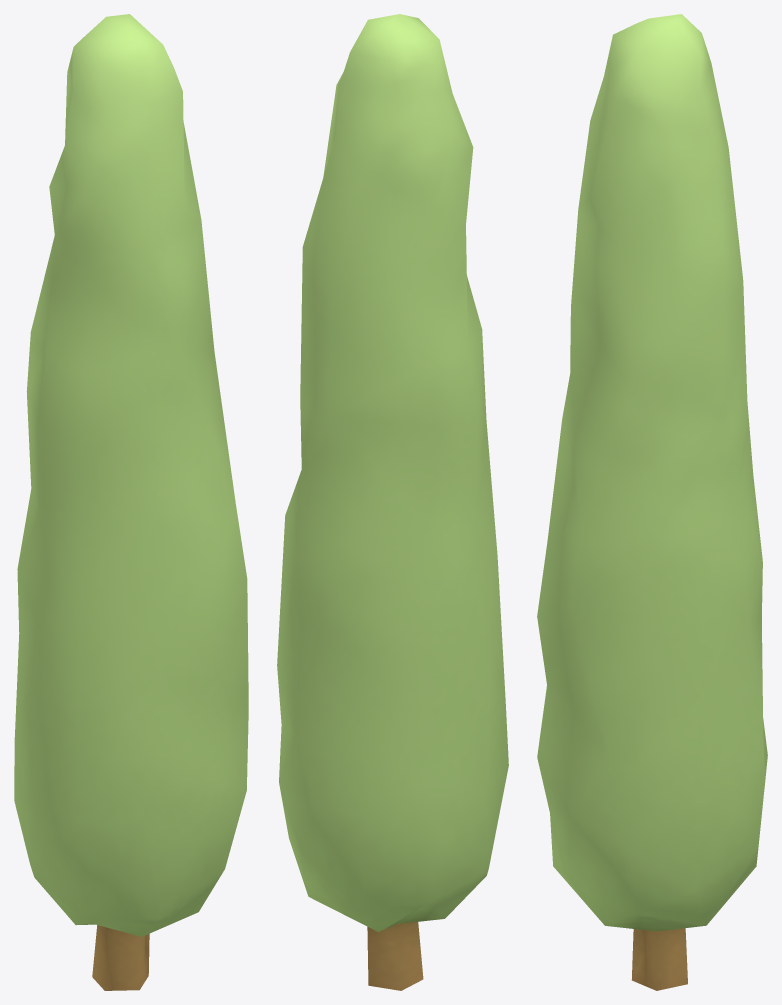
3 renders of one model, left to right at view 1: azimuth 30°, elevation 25°; view 2: azimuth 150°, elevation 25°; view 3: azimuth 270°, elevation 25°, orthographic.
Visible parts, largest first — view 1: tuya; view 2: tuya; view 3: tuya.
Part boxes in pixels (left/top/right/bottom): tuya: left=14, top=14, right=248, bottom=990; tuya: left=277, top=14, right=508, bottom=990; tuya: left=537, top=14, right=767, bottom=990.
Size of the model in its own units: 4.33 by 19.99 by 4.34.
1 material, 1 textured.
